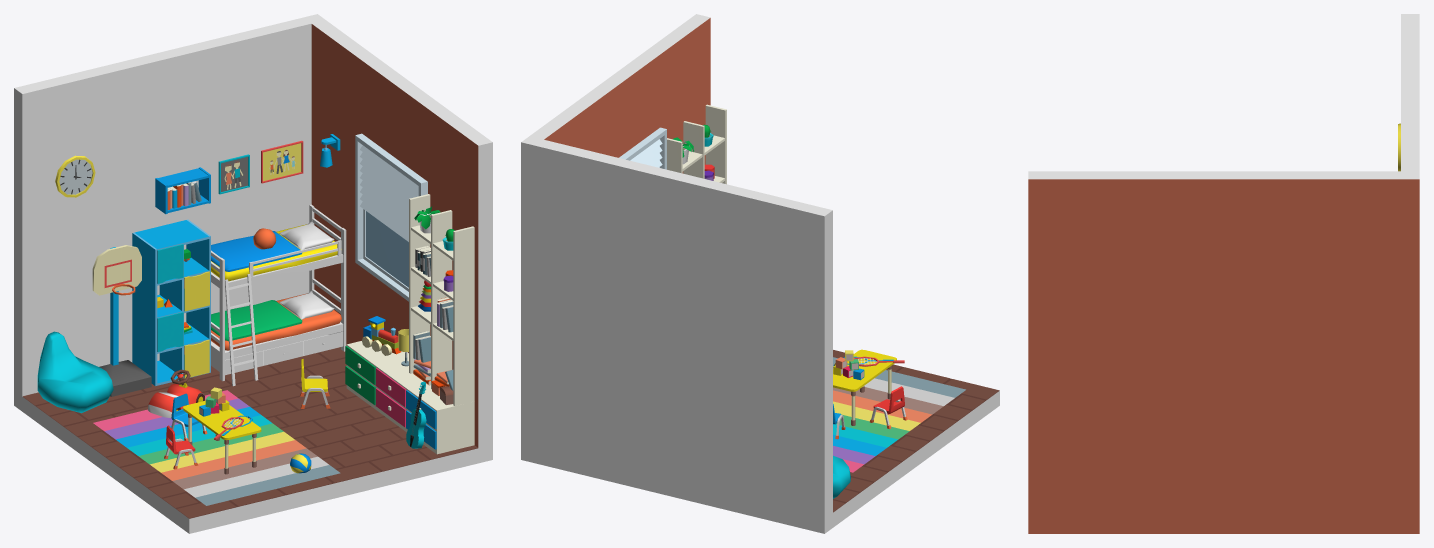
The model's file is room_25.glb.
3 renders of one model, left to right at view 1: azimuth 30°, elevation 25°; view 2: azimuth 150°, elevation 25°; view 3: azimuth 270°, elevation 25°, orthographic. The views are drawn at different scales.
Parts seen in each view (by area): view 1: Walls_006.060, Walls_043.003, wall_003.002, shelf_062.001, bed_004.001, shelf_060.002, carpet_002.001, Walls_056.007, window_029.003, office_chair_002.001, toy_010.001, office_table_020.002 (+12 smaller); view 2: Walls_006.060, Walls_043.003, carpet_002.001, wall_003.002, Walls_056.007, shelf_062.001, office_table_020.002, window_029.003, kitchen_chair_037.002, toy_001.002, office_chair_002.001; view 3: Walls_043.003, Walls_006.060.
Boxes of the visible parts, x1,y1,x2,y2 form: Walls_006.060: (14, 17, 311, 411); Walls_043.003: (303, 14, 492, 463); wall_003.002: (23, 347, 477, 518); shelf_062.001: (345, 194, 474, 454); bed_004.001: (211, 204, 346, 386); shelf_060.002: (132, 219, 210, 385); carpet_002.001: (93, 390, 340, 505); Walls_056.007: (22, 352, 478, 533); window_029.003: (355, 133, 427, 301); office_chair_002.001: (37, 331, 113, 413); toy_010.001: (92, 245, 151, 396); office_table_020.002: (183, 400, 261, 474); Walls_006.060: (535, 140, 832, 533); Walls_043.003: (521, 14, 710, 463); carpet_002.001: (833, 357, 965, 472); wall_003.002: (833, 350, 998, 511); Walls_056.007: (833, 366, 999, 527); shelf_062.001: (667, 104, 726, 184); office_table_020.002: (833, 349, 896, 425); window_029.003: (619, 127, 666, 169); kitchen_chair_037.002: (869, 386, 907, 428); toy_001.002: (833, 350, 864, 380); office_chair_002.001: (833, 455, 850, 498); Walls_043.003: (1028, 171, 1419, 533); Walls_006.060: (1401, 14, 1419, 171).
Bounding box in the file's own units: 4.2 × 4.2 × 4.2.
Materials: 1 (1 with a texture image).
